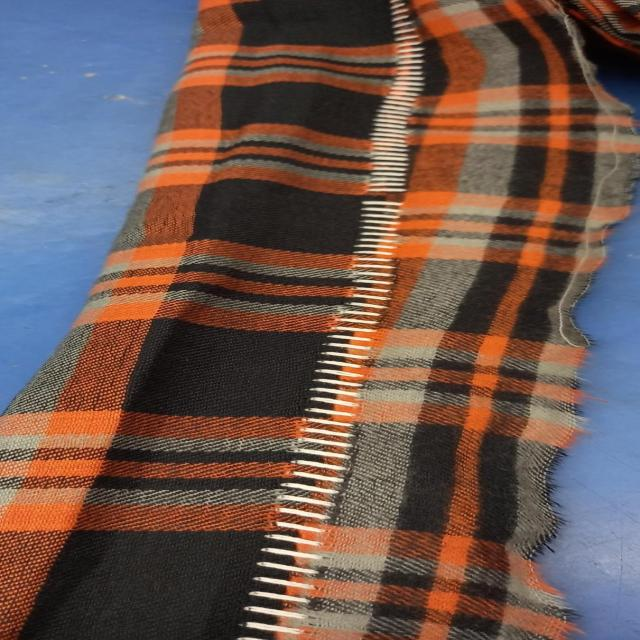gray stitch: (348, 0, 452, 272), (284, 276, 399, 490), (235, 491, 348, 640)
